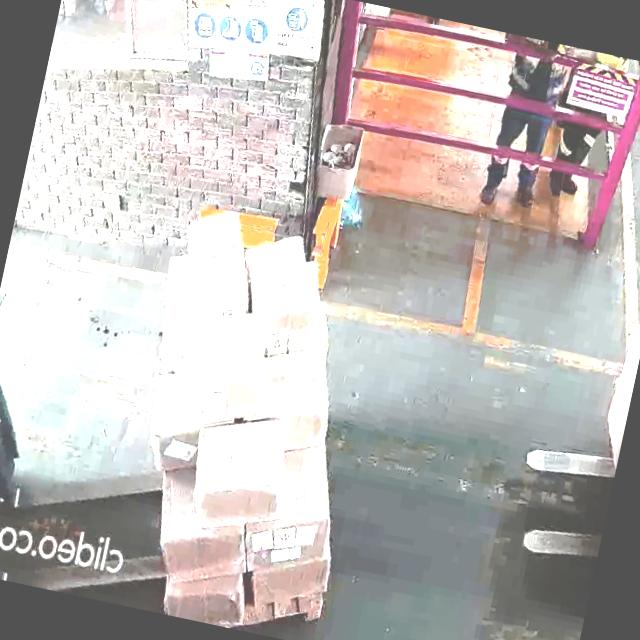Box: (164, 301, 275, 424), (183, 412, 294, 534), (166, 200, 266, 319), (254, 338, 336, 446), (151, 513, 247, 598), (245, 229, 317, 336), (250, 543, 336, 627), (242, 498, 334, 576), (164, 568, 245, 629)
